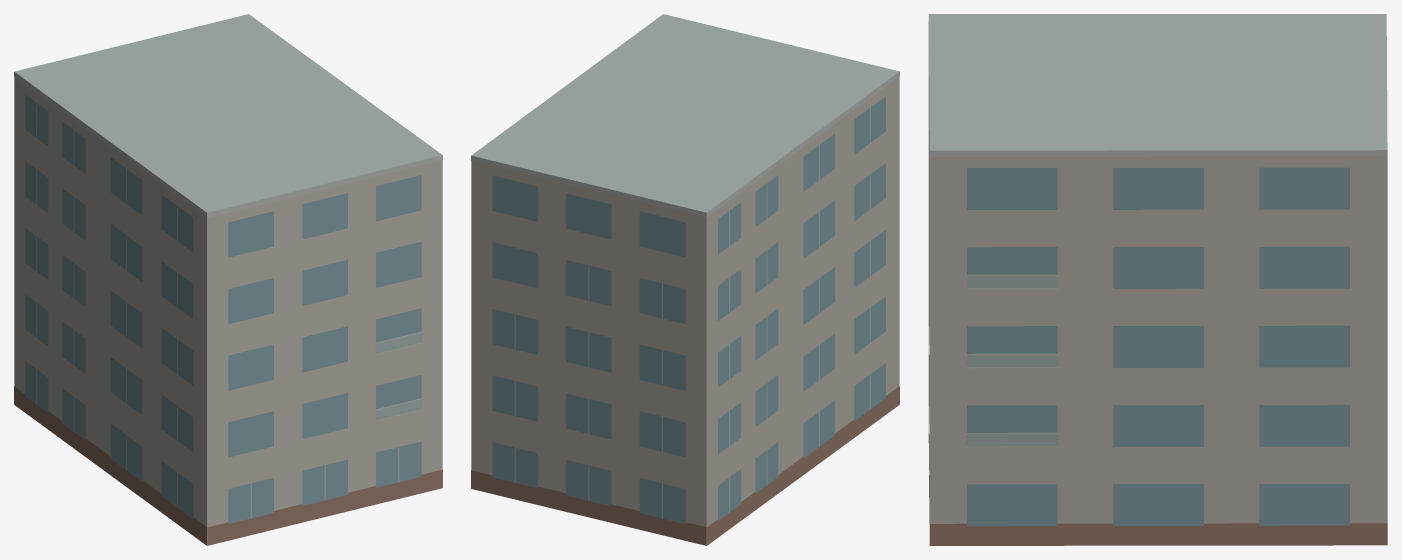
Rendered from survey-upis-32719856.glb.
3 views of the same model, side by side, from view 1: azimuth 30°, elevation 25°; view 2: azimuth 150°, elevation 25°; view 3: azimuth 270°, elevation 25° (orthographic). The views are drawn at different scales.
Visible parts, largest first — view 1: survey-upis-32719856.tmp; view 2: survey-upis-32719856.tmp; view 3: survey-upis-32719856.tmp.
Boxes of the visible parts, x1=… form: survey-upis-32719856.tmp: x1=14, y1=14, x2=442, y2=545; survey-upis-32719856.tmp: x1=471, y1=14, x2=899, y2=545; survey-upis-32719856.tmp: x1=928, y1=14, x2=1387, y2=545.
Size of the model in its own units: 11.8 by 15.85 by 16.7.
